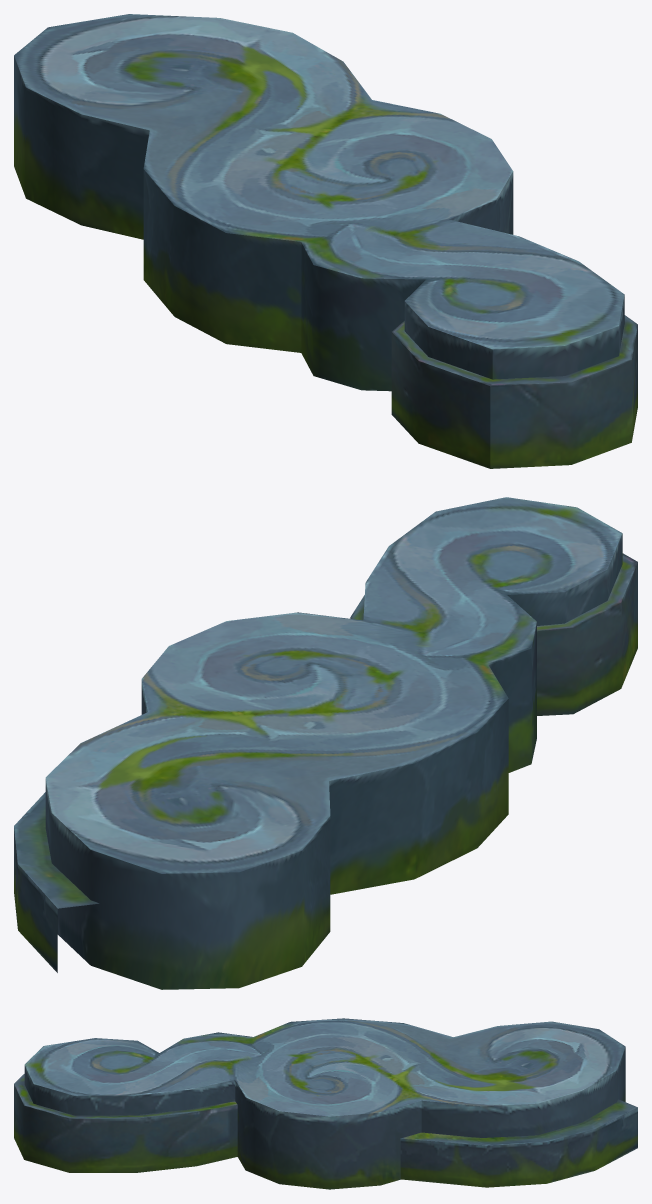
File: fb_tys_zj_01_e.FBX
3 views of the same model, one above another, from view 1: azimuth 30°, elevation 25°; view 2: azimuth 150°, elevation 25°; view 3: azimuth 270°, elevation 25° (orthographic). The views are drawn at different scales.
Visible parts, largest first — view 1: fb_tys_zj_01_e; view 2: fb_tys_zj_01_e; view 3: fb_tys_zj_01_e.
Part boxes in pixels (<box>): fb_tys_zj_01_e: <box>14,14,637,468</box>; fb_tys_zj_01_e: <box>14,497,637,989</box>; fb_tys_zj_01_e: <box>14,1018,637,1189</box>.
Bounding box in the file's own units: 345 × 121 × 925.
